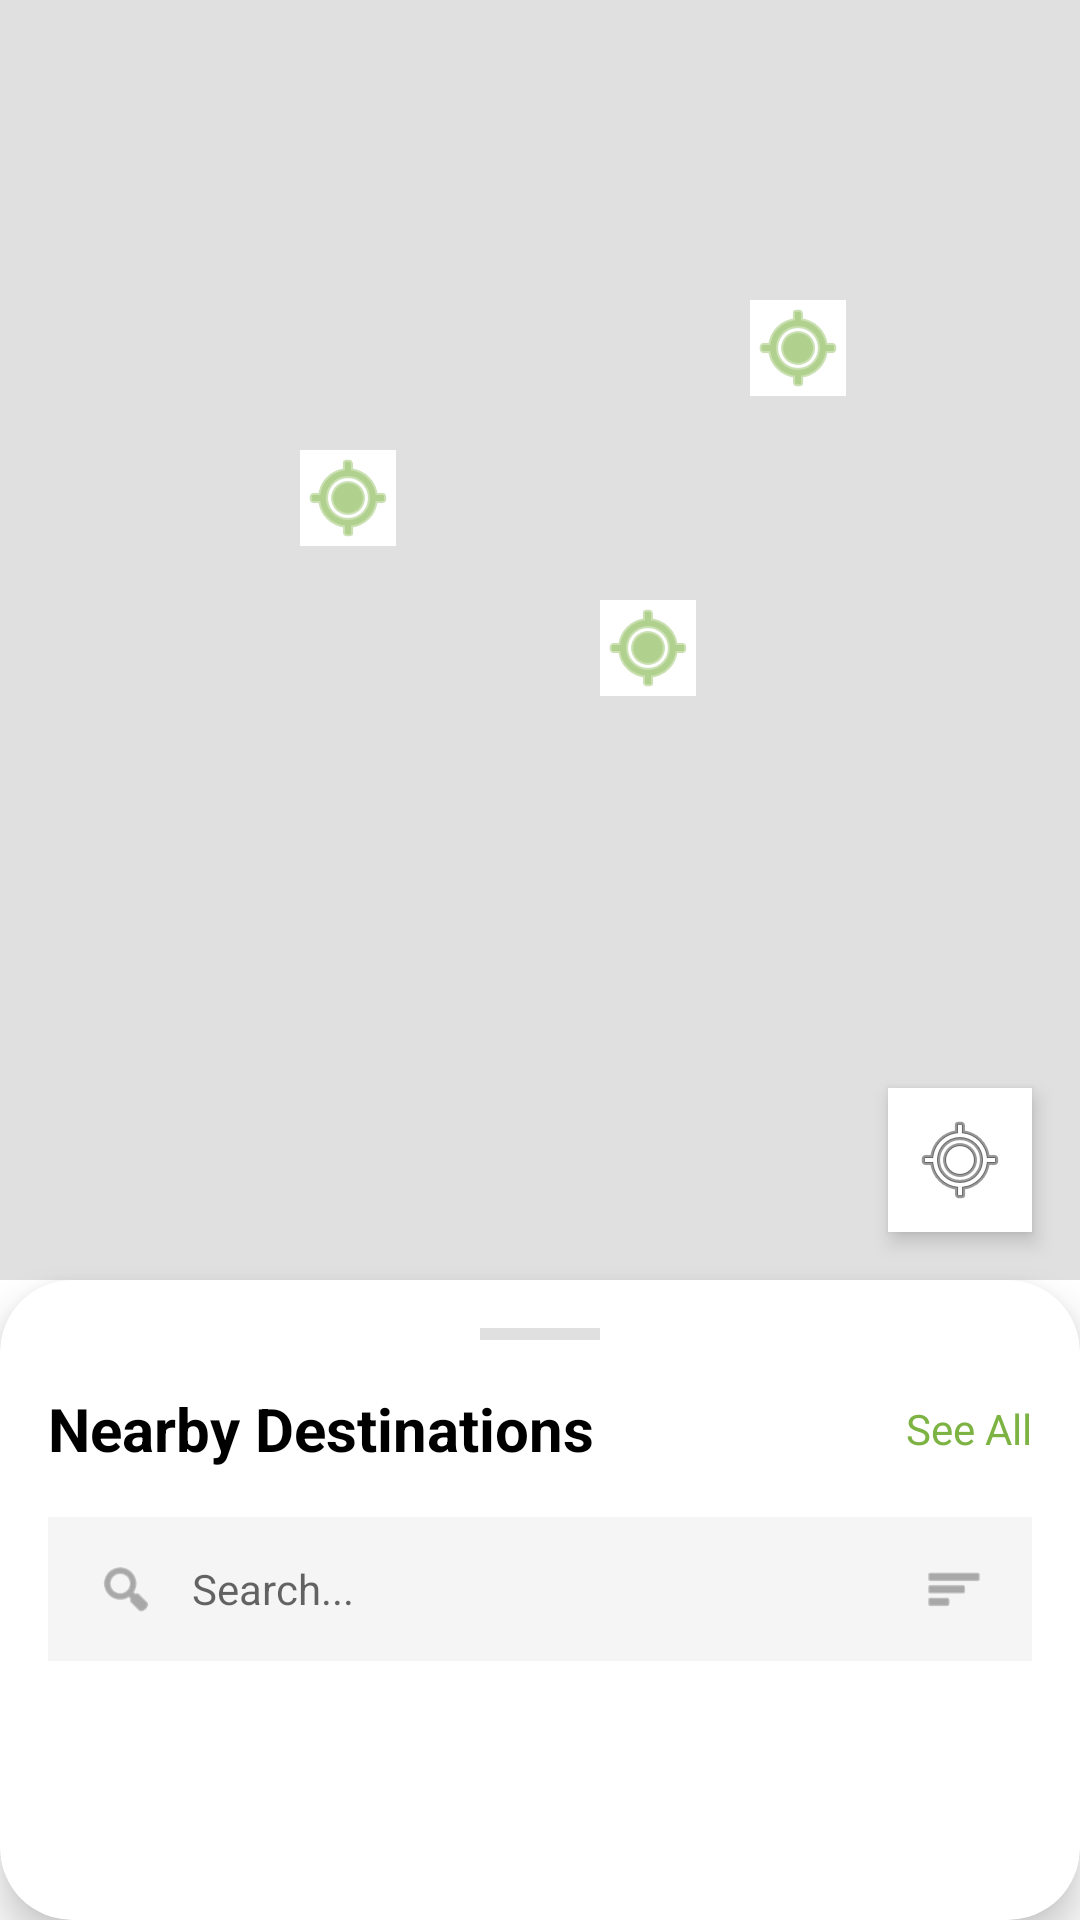

Where icons sit on this 1080 × 1920 app screen, as (x1, y1, x2, y2):
sort by size: (928, 1573, 980, 1606)
